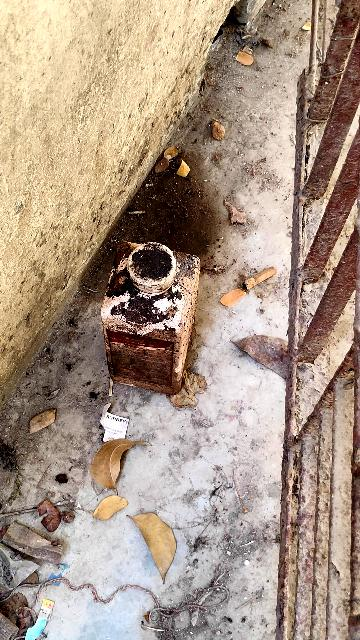bottle: (93, 244, 207, 388)
